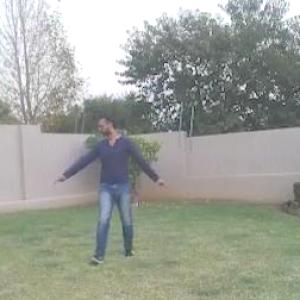land: (46, 99, 168, 265)
